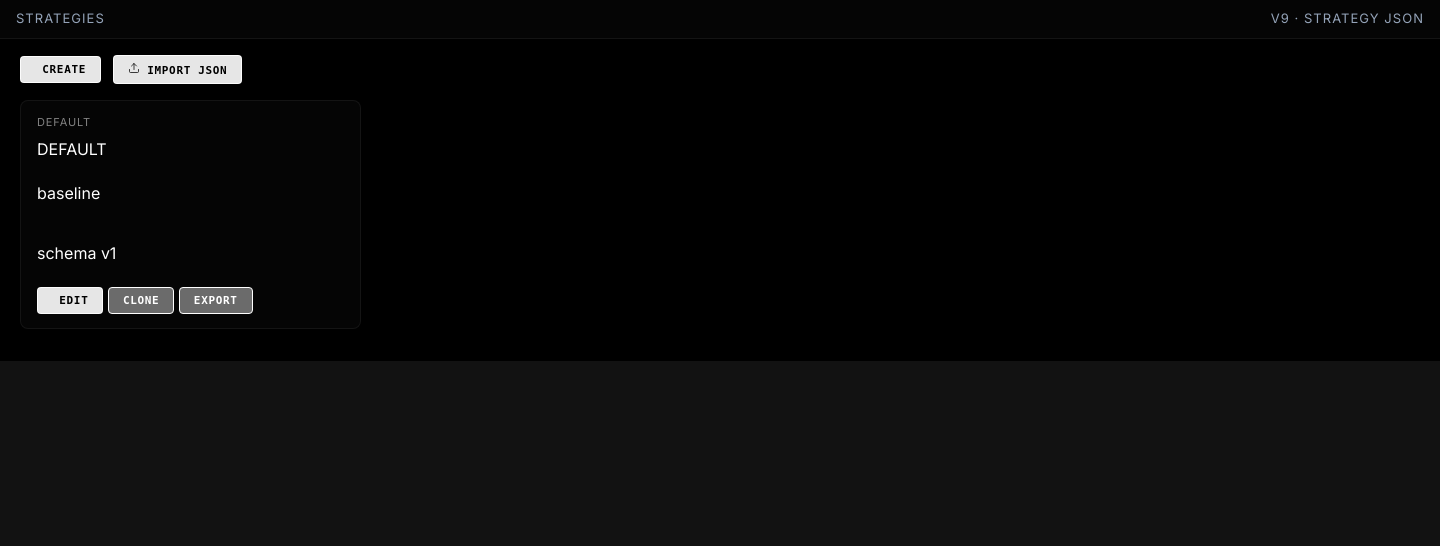
Test: StrategiesHome › shows the list and opens the editor on Edit
expect the heading "default" is shown: met, box [37, 115, 91, 129]
Click the button "Edit" at (70, 300), box [37, 287, 103, 314]
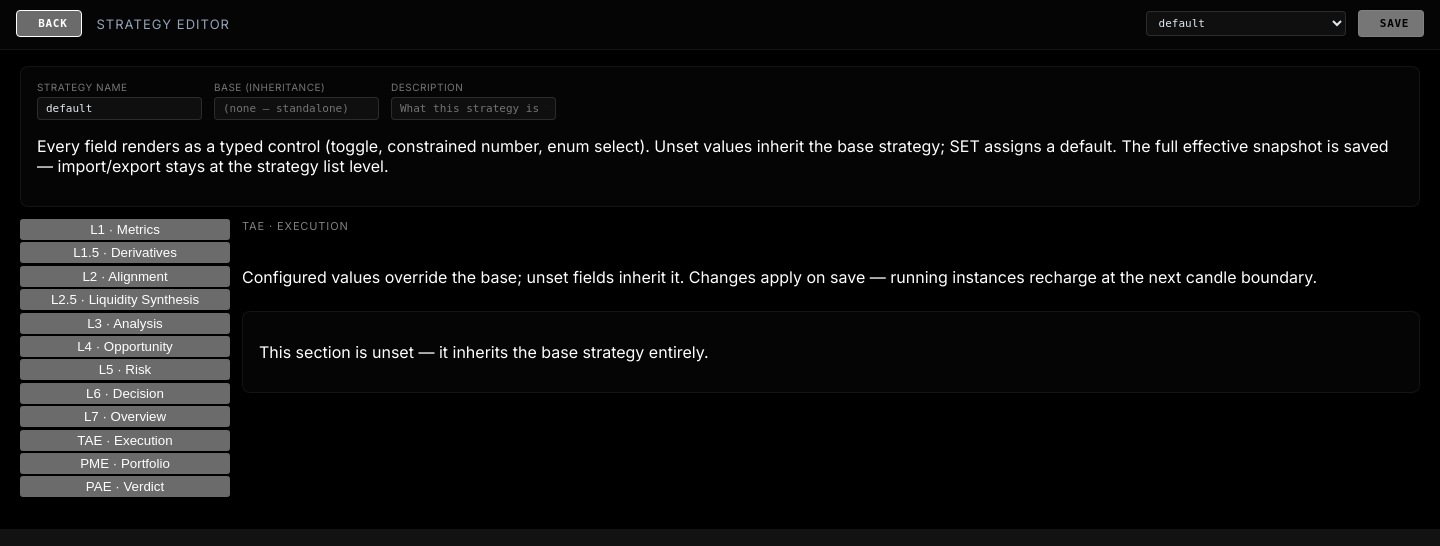
expect the heading "STRATEGY EDITOR" is shown: met, box [96, 16, 230, 32]
